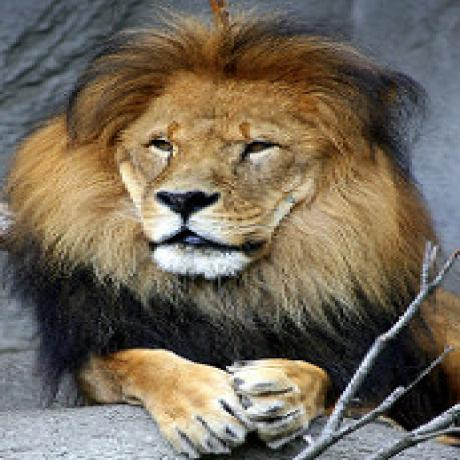Lion: (7, 10, 459, 460)
